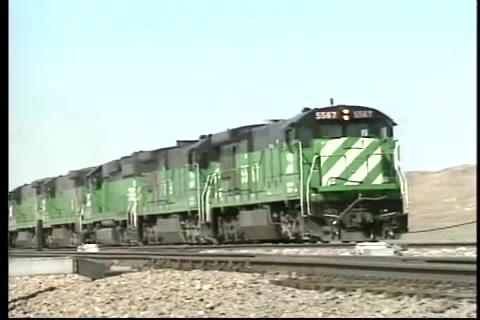train: (10, 99, 410, 248)
